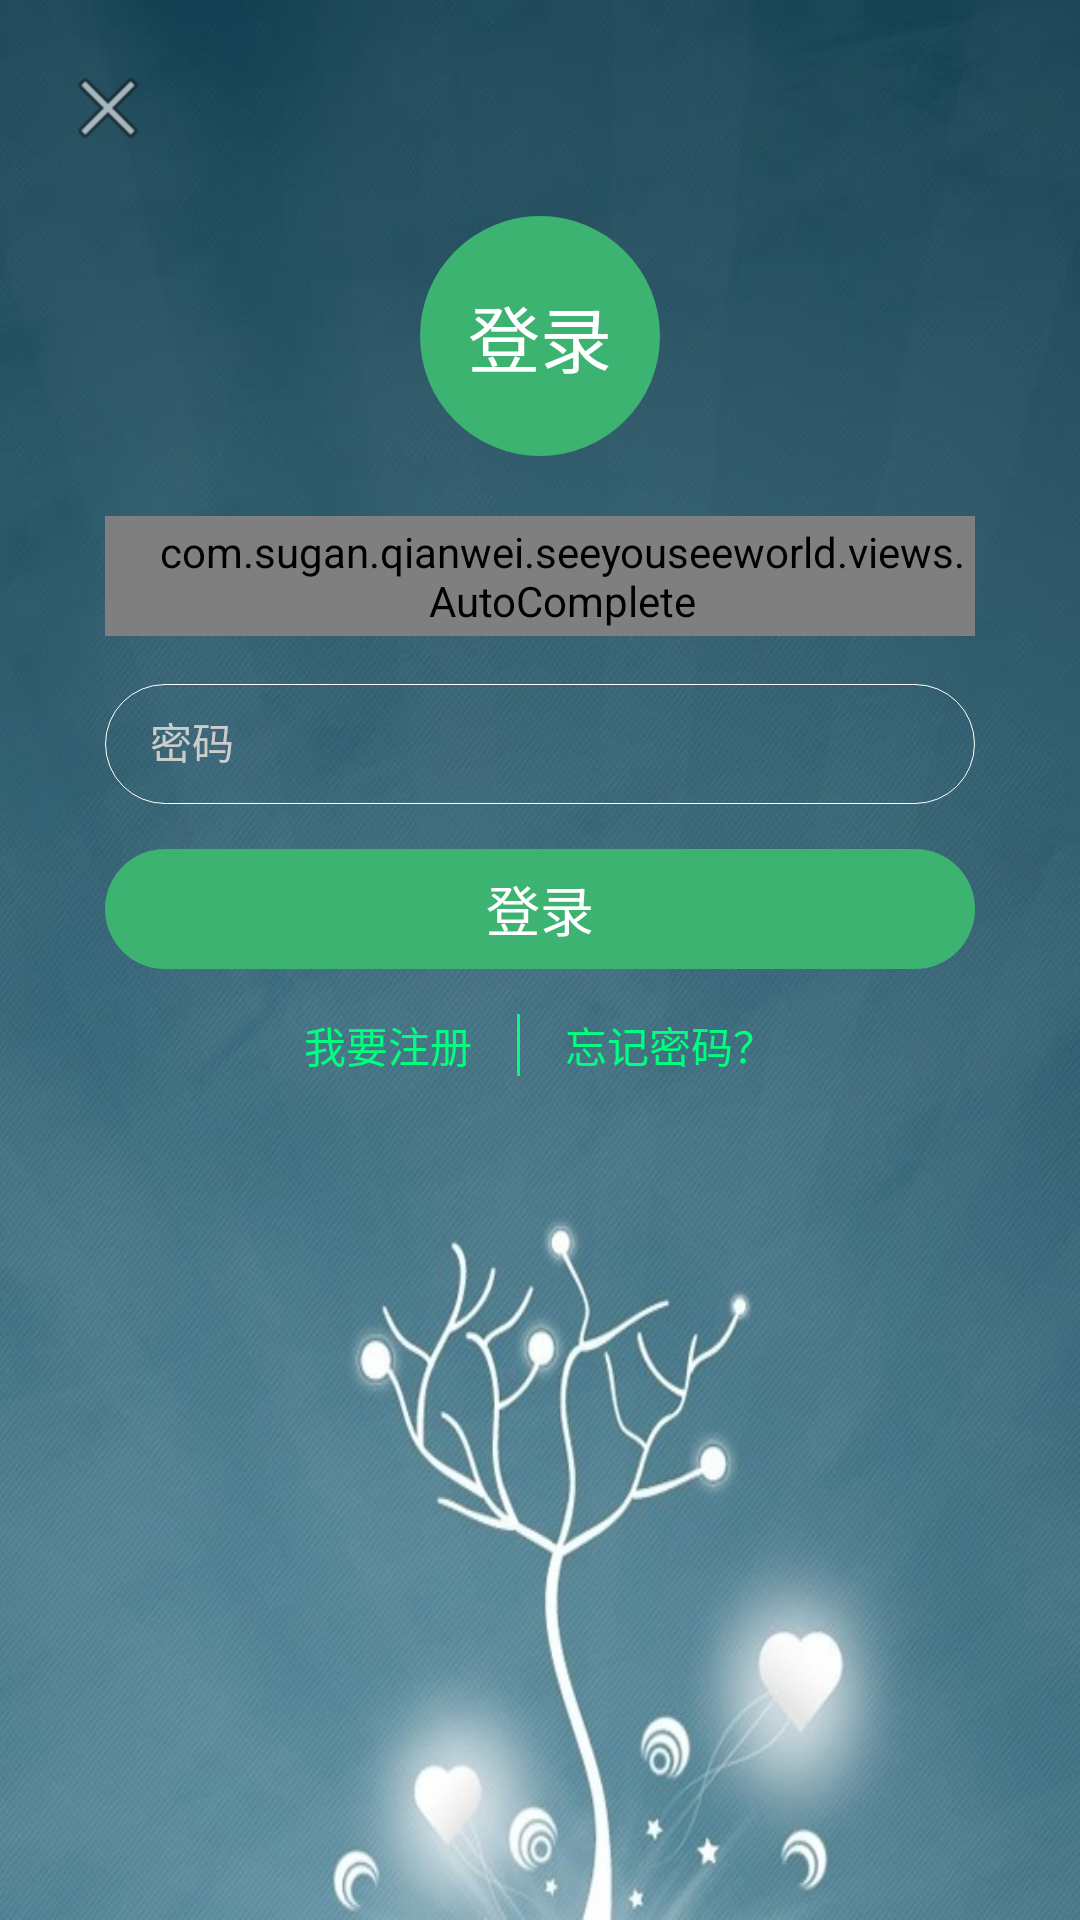

Locate icon controls on the screen. Image size 1080 × 1920, boxes as (x1, y1, x2, y2).
close clear cancel: (79, 79, 137, 137)
